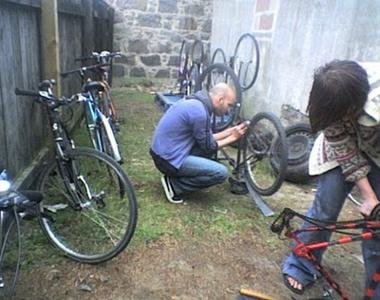person: (148, 83, 247, 206)
